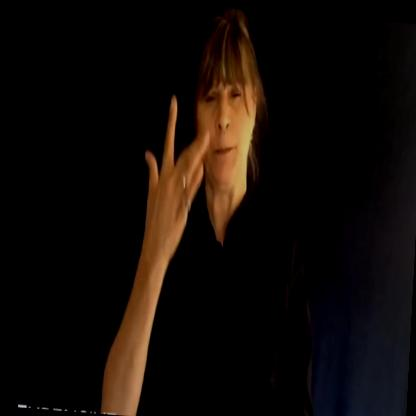Expensive: (113, 79, 300, 416)
